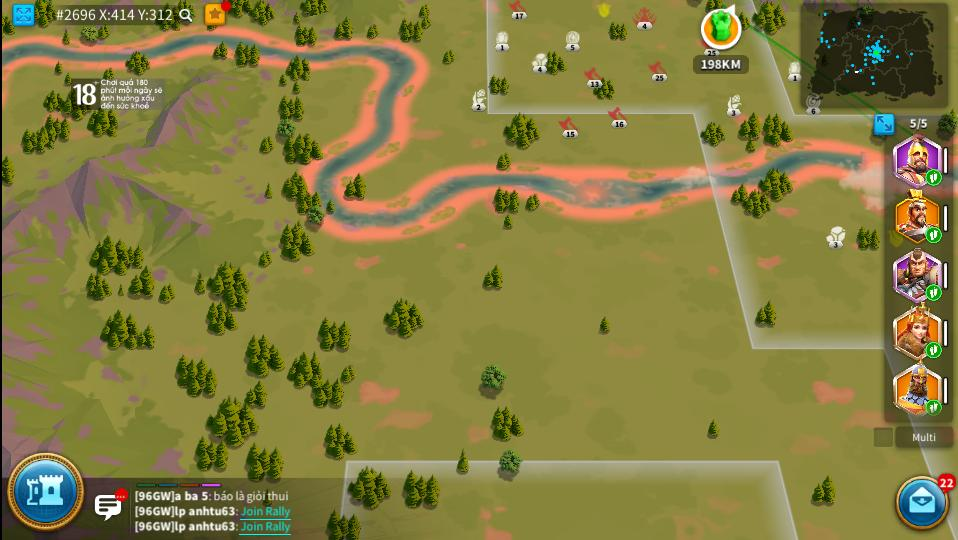gem-z-out: (493, 31, 512, 52), (787, 61, 802, 82)
march_marching: (925, 228, 942, 242), (926, 170, 940, 185), (927, 400, 941, 415), (926, 285, 940, 299), (928, 343, 940, 357)
